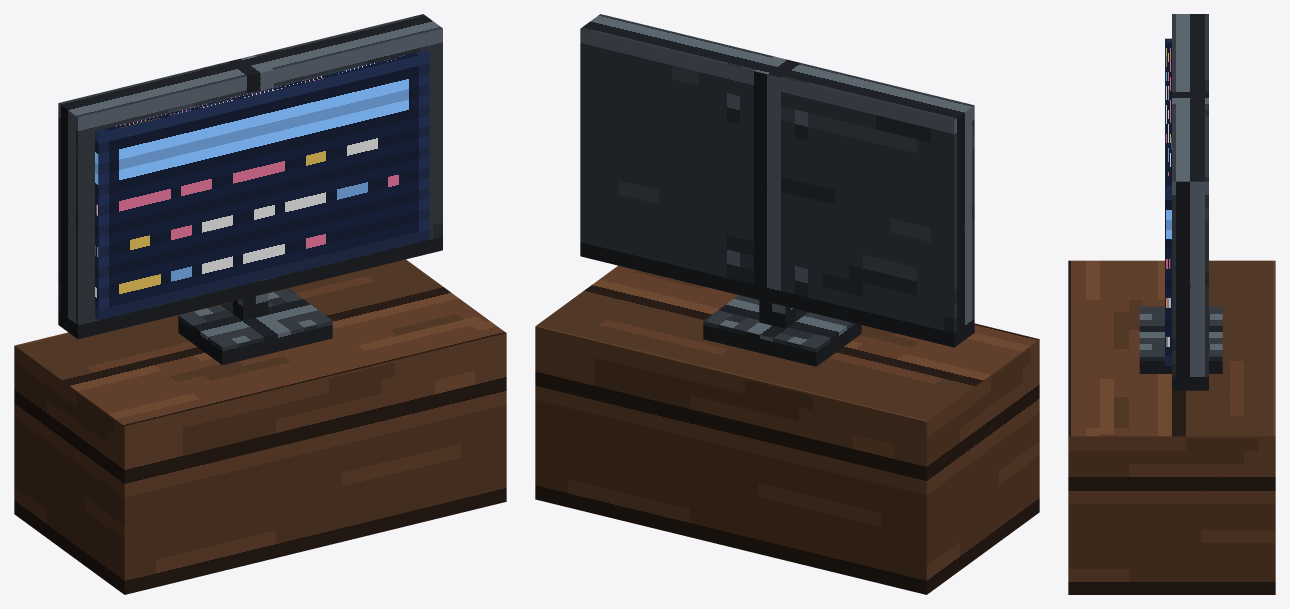
3 renders of one model, left to right at view 1: azimuth 30°, elevation 25°; view 2: azimuth 150°, elevation 25°; view 3: azimuth 270°, elevation 25°, orthographic. The views are drawn at different scales.
Visible parts, largest first — view 1: tv; view 2: tv; view 3: tv.
Boxes of the visible parts, x1,y1,x2,y2 form: tv: [14, 14, 506, 594]; tv: [535, 14, 1039, 594]; tv: [1068, 14, 1275, 594].
Size of the model in its own units: 0.9184 by 1 by 0.4592.
Materials: 3 (3 with a texture image).
